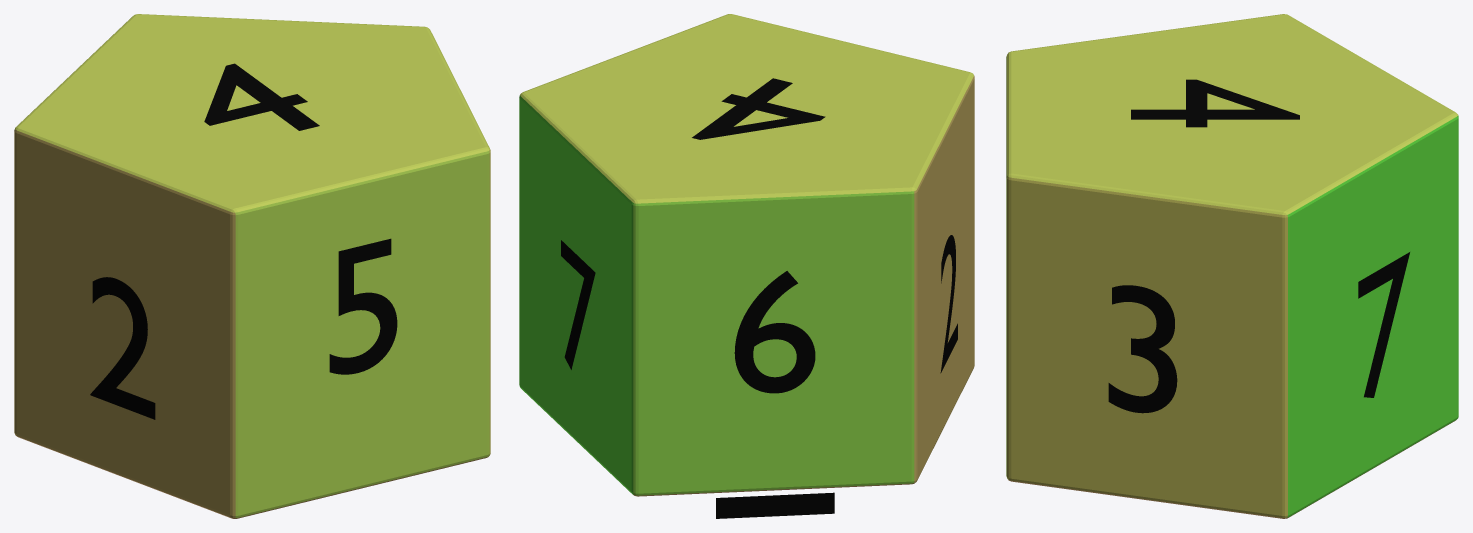
3 renders of one model, left to right at view 1: azimuth 30°, elevation 25°; view 2: azimuth 150°, elevation 25°; view 3: azimuth 270°, elevation 25°, orthographic. The views are drawn at different scales.
Parts seen in each view (by area): view 1: d7, d7_num; view 2: d7, d7_num; view 3: d7, d7_num.
Part boxes in pixels (x1,y1,x2,y2): d7: (14,14,490,518); d7_num: (90,63,397,419); d7: (519,14,974,496); d7_num: (561,78,957,518); d7: (1006,14,1458,518); d7_num: (1108,79,1409,413).
Size of the model in its own units: 2.22 by 1.73 by 2.13.
